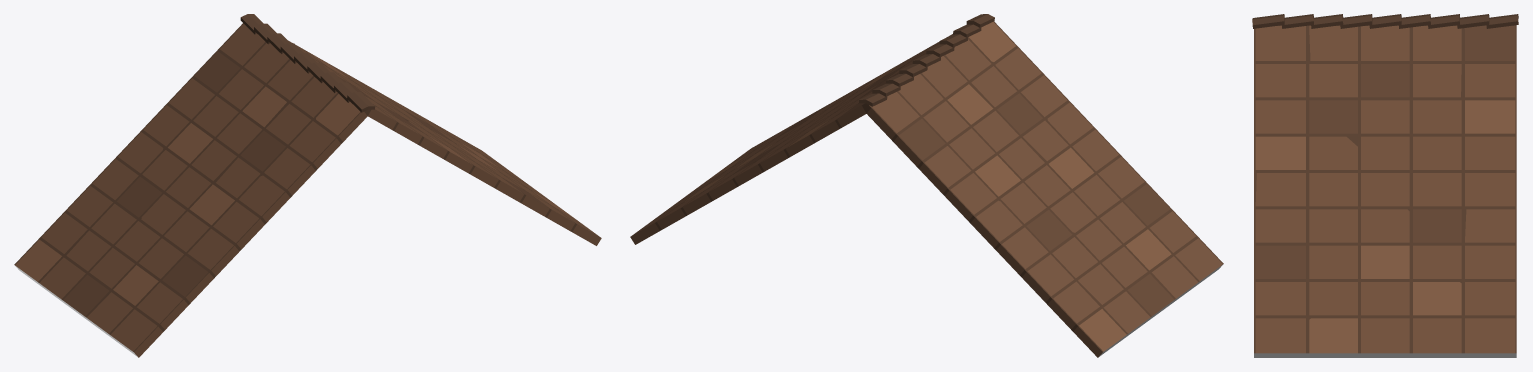
File: Roof1_C9_01.fbx
3 views of the same model, side by side, from view 1: azimuth 30°, elevation 25°; view 2: azimuth 150°, elevation 25°; view 3: azimuth 270°, elevation 25° (orthographic). The views are drawn at different scales.
Visible parts, largest first — view 1: Roof1_C9_01; view 2: Roof1_C9_01; view 3: Roof1_C9_01.
Boxes of the visible parts, x1=… form: Roof1_C9_01: x1=14, y1=14, x2=601, y2=357; Roof1_C9_01: x1=630, y1=14, x2=1223, y2=357; Roof1_C9_01: x1=1252, y1=14, x2=1518, y2=357.
Bounding box in the file's own units: 565 × 231 × 254.
